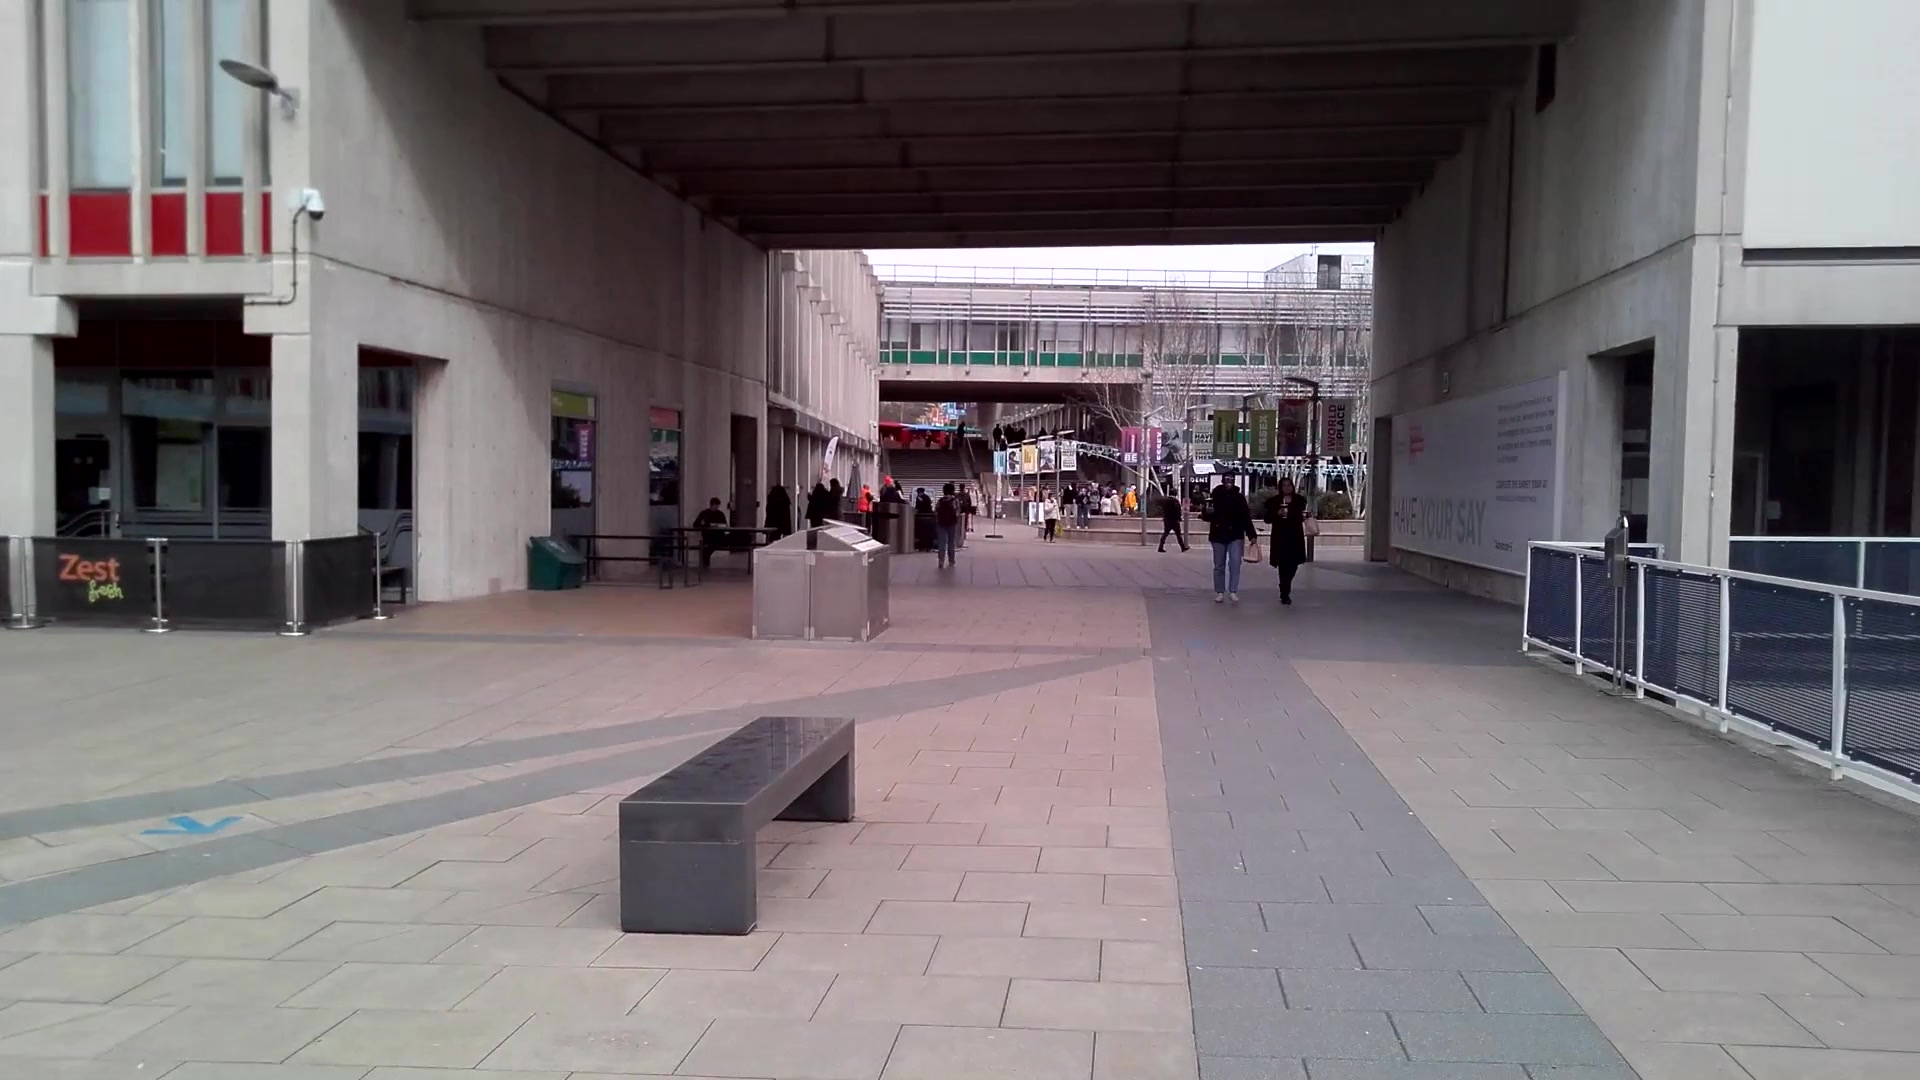Bench: (618, 717, 857, 939)
Bin: (818, 523, 885, 634), (754, 527, 816, 633)
Person: (1205, 474, 1252, 606), (1272, 475, 1308, 611), (934, 479, 960, 571)
